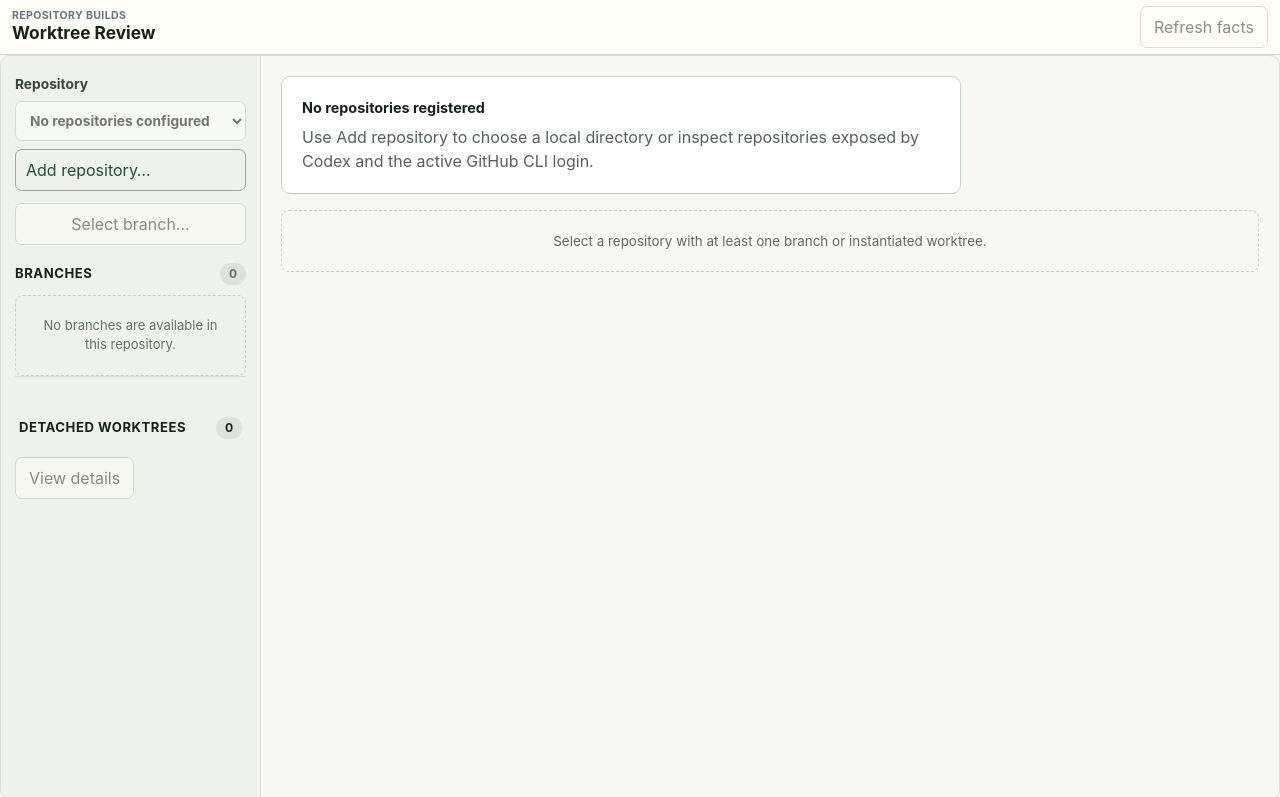
Test: WorktreeReviewScreen › registers a directory in the separate repository modal before presenting branches
Click the button "Add repository…" at (130, 170), box [15,149,246,191]
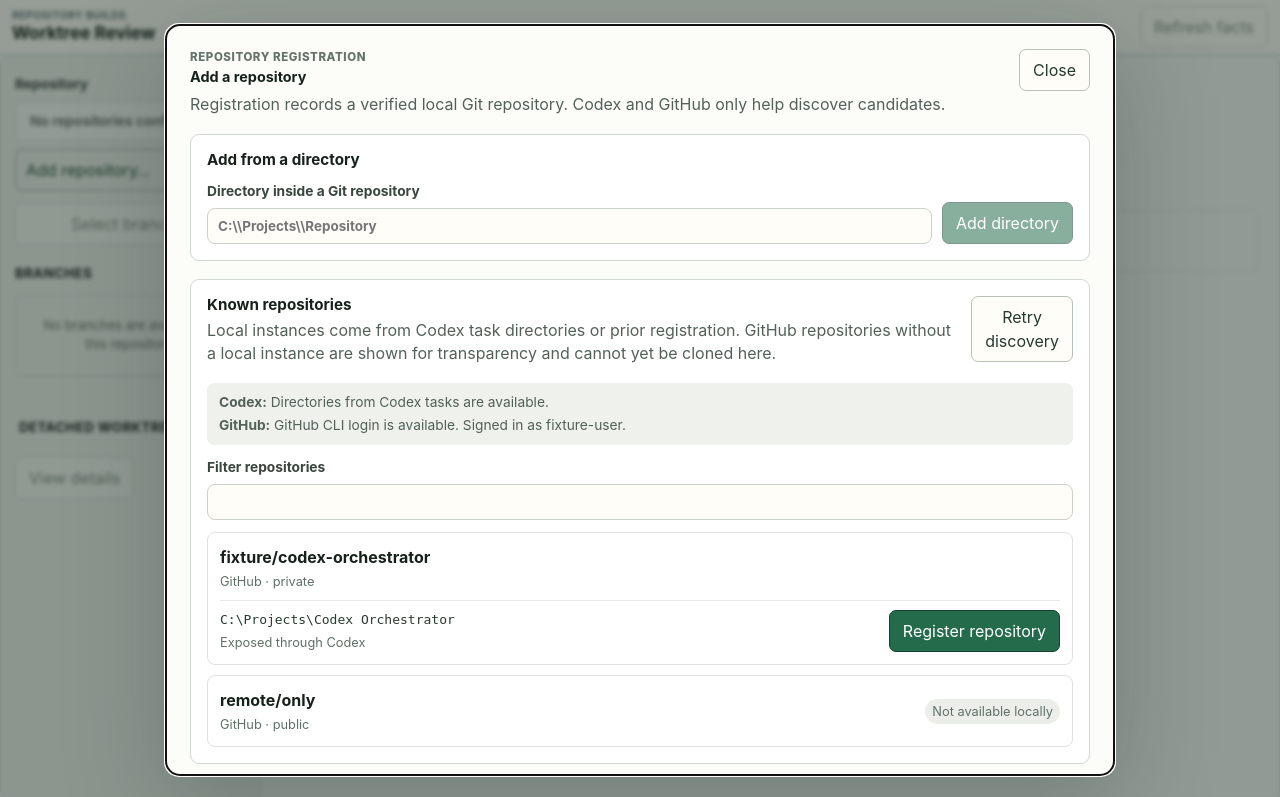
Type "C:\\Projects\\Codex Orchestrator" into the field labelled "Directory inside a Git repository" at (570, 226), box [207,208,932,244]
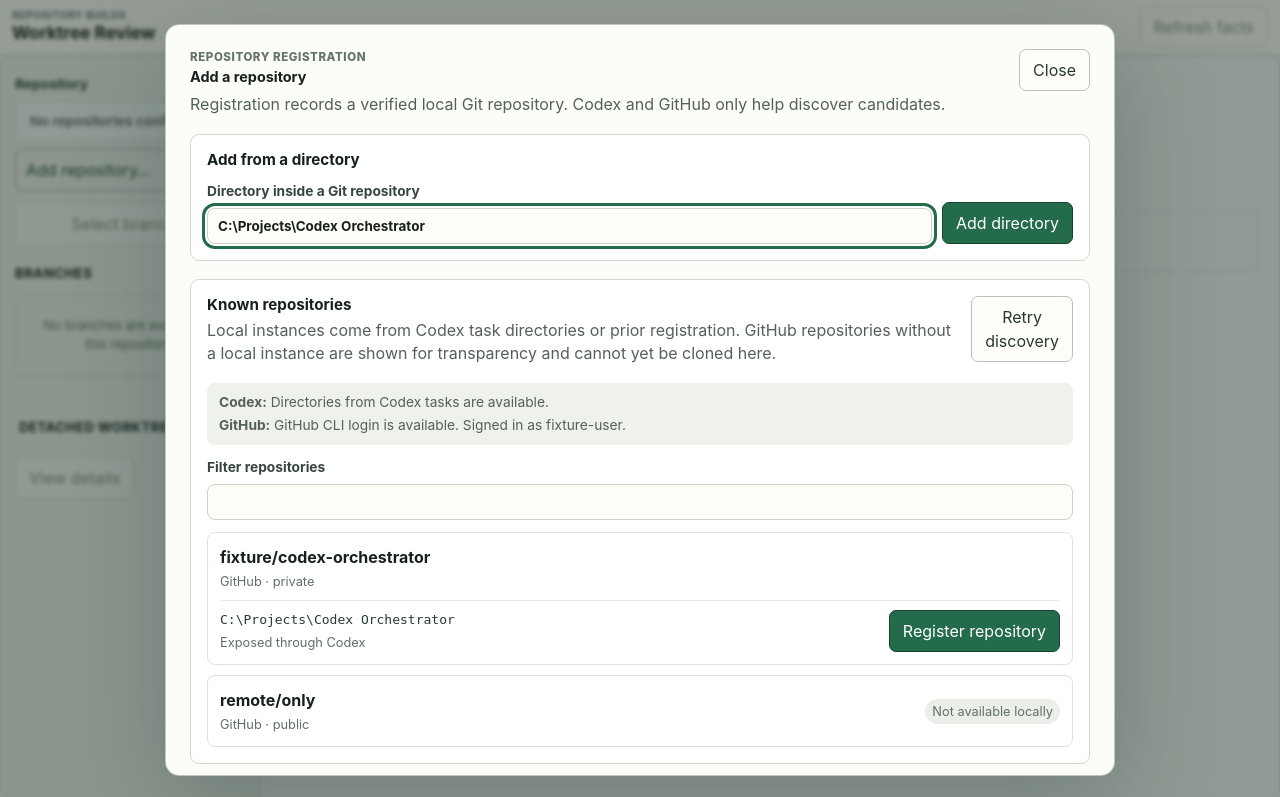
Click the button "Add directory" at (1008, 223), box [942,202,1073,244]
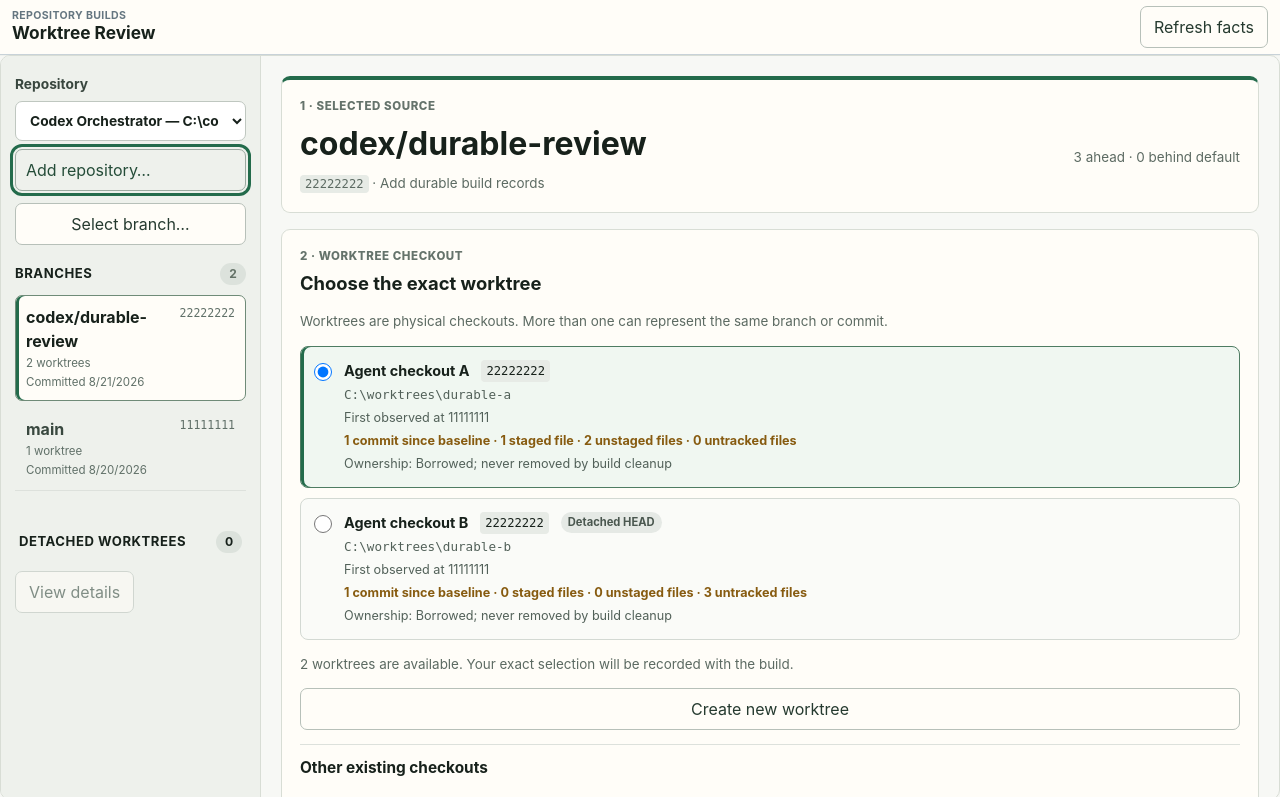
Expected: the heading "codex/durable-review" is shown, [300,120,647,168]
